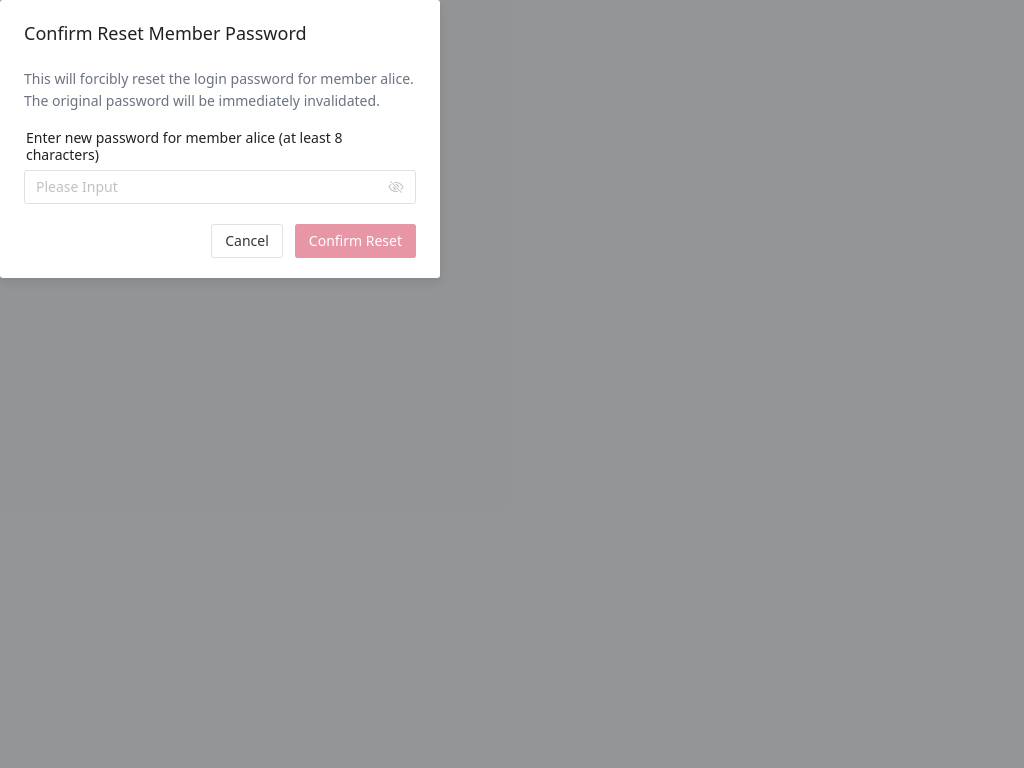
Scenario: ResetMemberPasswordModal › 点击取消立即清空密码并只触发一次 cancel
This screenshot has width=1024, height=768.
Type "password8" into the password field labelled "Enter new password for member alice (at least 8 characters)".
click(210, 187); type("password8")  # box [36,170,384,204]
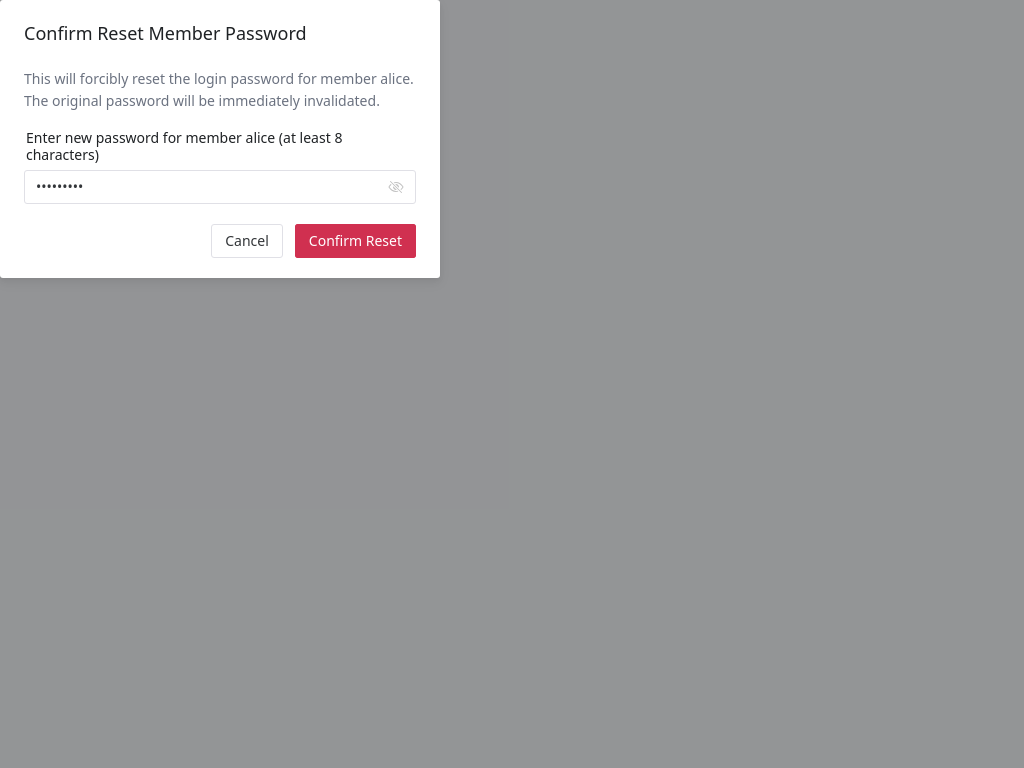
Click the button "Cancel".
click(247, 241)  # box [211,224,283,258]
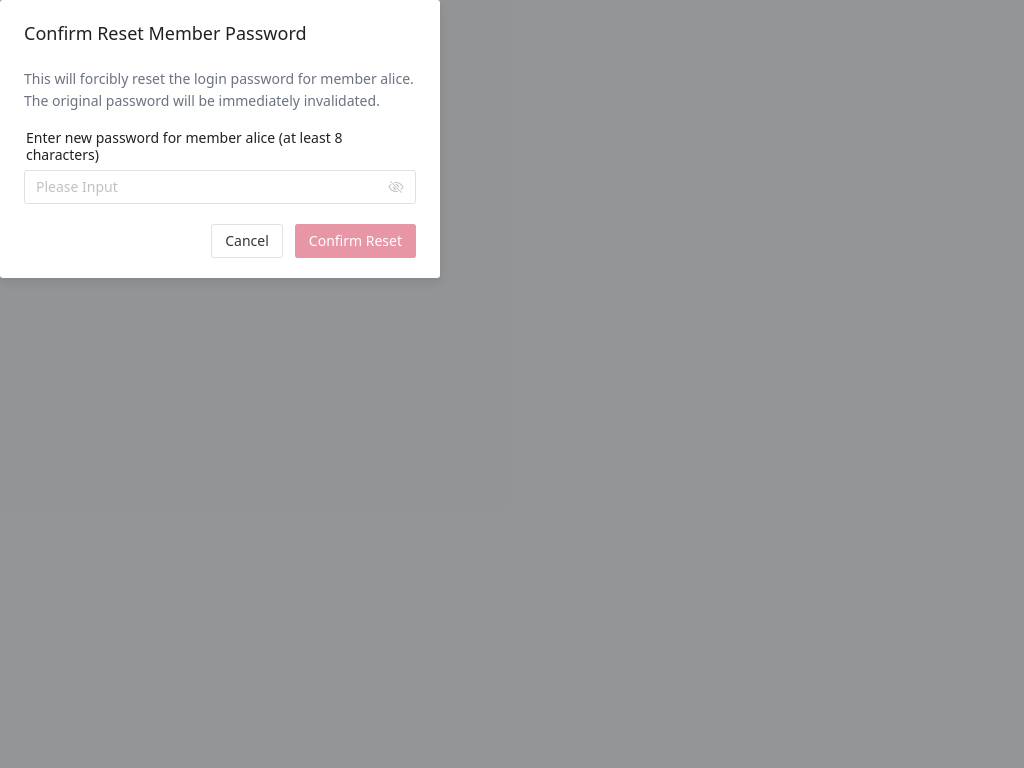
Now the password field labelled "Enter new password for member alice (at least 8 characters)" is empty, box [36,170,384,204]
